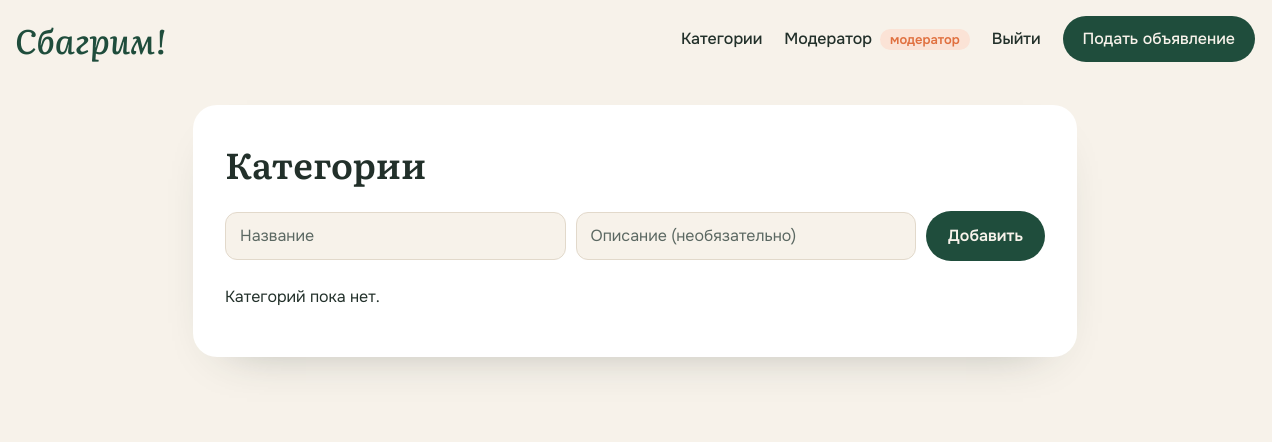
it: категории › показывает ошибку сервера при добавлении
Type "Книги" into the field labelled "Название" at [395, 236], box [225, 212, 566, 260]
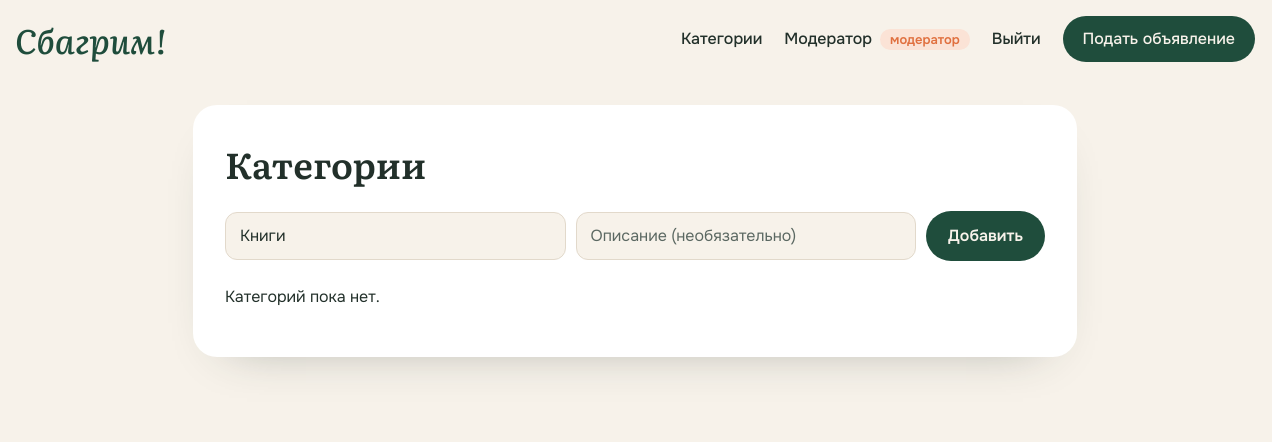
Click the button "Добавить" at [986, 236], box [926, 211, 1045, 261]
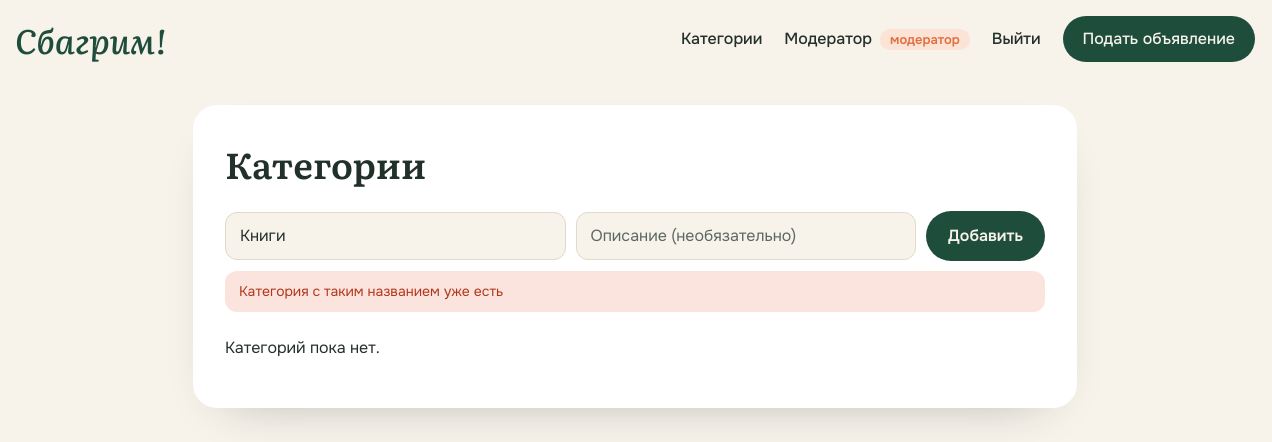
Check: the message reads "Категория с таким названием уже есть", box [239, 282, 503, 300]
